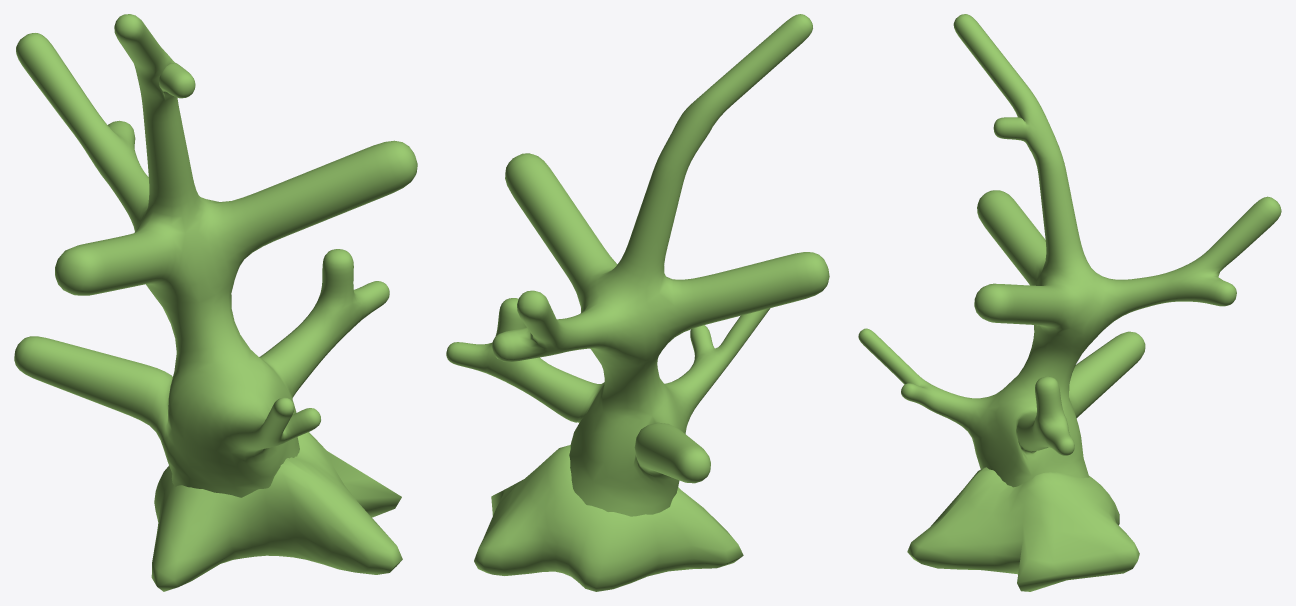
File: coralreef1.glb
The picture shows the model from 3 angles, left to right: view 1: azimuth 30°, elevation 25°; view 2: azimuth 150°, elevation 25°; view 3: azimuth 270°, elevation 25°; orthographic projection. The views are drawn at different scales.
Parts seen in each view (by area): view 1: Cube, Sphere; view 2: Cube, Sphere; view 3: Cube, Sphere.
Part boxes in pixels (x1,y1,x2,y2): Cube: (14,14,417,497); Sphere: (151,432,402,591); Cube: (446,14,829,516); Sphere: (474,445,743,591); Cube: (858,14,1281,487); Sphere: (907,467,1139,591).
Bounding box in the file's own units: 1.61 × 2.51 × 2.03.
